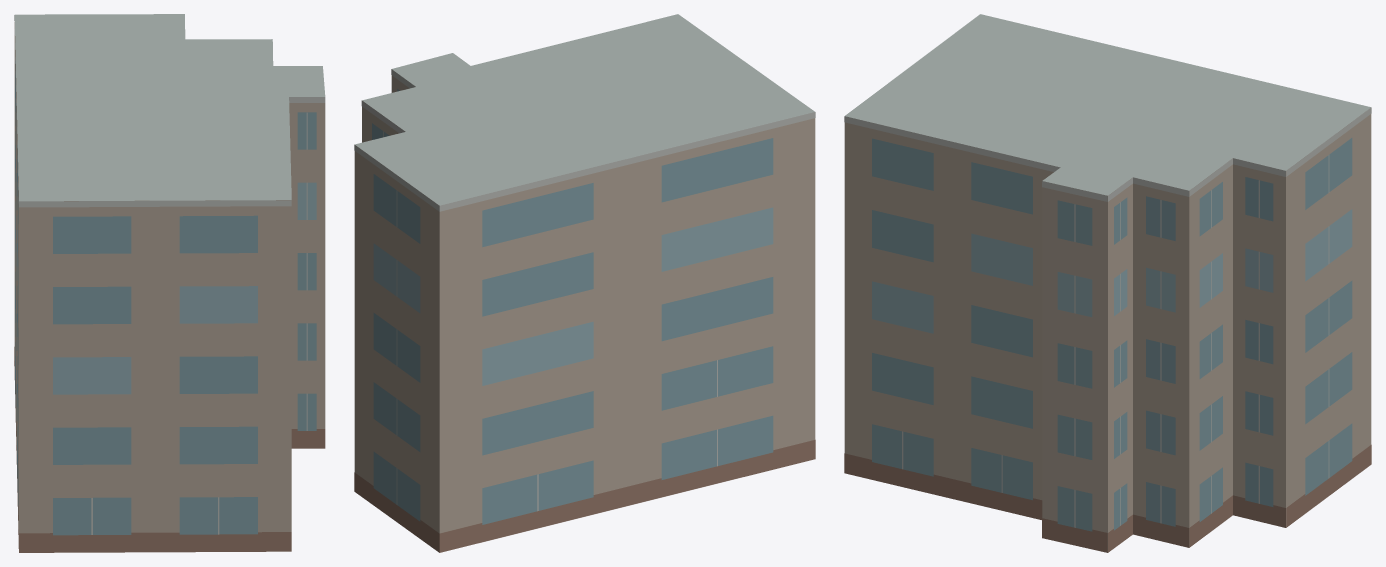
File: survey-upis-33036948.glb
3 renders of one model, left to right at view 1: azimuth 30°, elevation 25°; view 2: azimuth 150°, elevation 25°; view 3: azimuth 270°, elevation 25°, orthographic. The views are drawn at different scales.
Visible parts, largest first — view 1: survey-upis-33036948.tmp; view 2: survey-upis-33036948.tmp; view 3: survey-upis-33036948.tmp.
Part boxes in pixels (x1,y1,x2,y2): survey-upis-33036948.tmp: [14, 14, 325, 552]; survey-upis-33036948.tmp: [354, 14, 815, 552]; survey-upis-33036948.tmp: [844, 14, 1371, 552].
Size of the model in its own units: 15.23 by 13.95 by 18.66.
